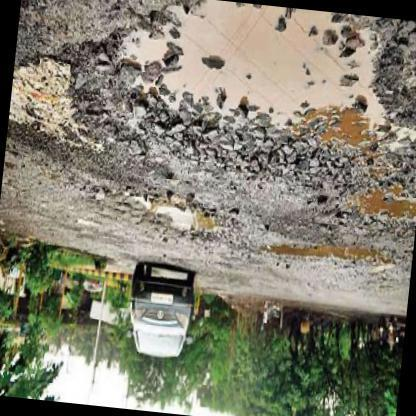pothole: (111, 0, 413, 152), (124, 188, 238, 239), (252, 230, 396, 270), (352, 180, 416, 226)
